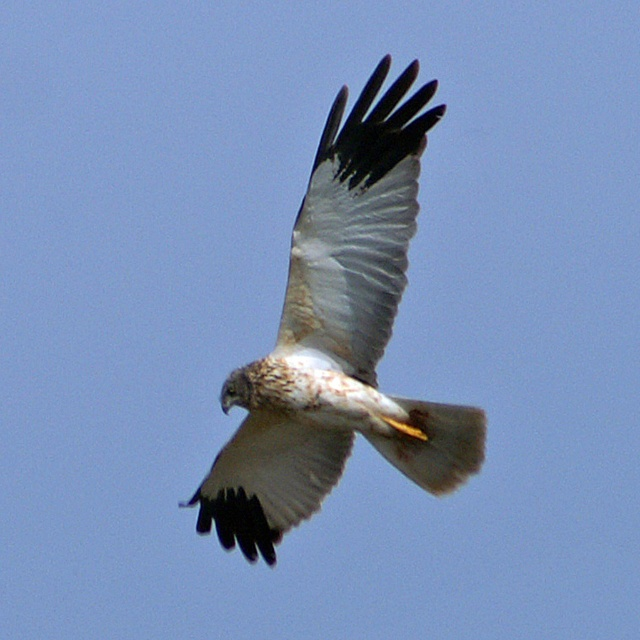Eagle: (171, 50, 493, 576)
